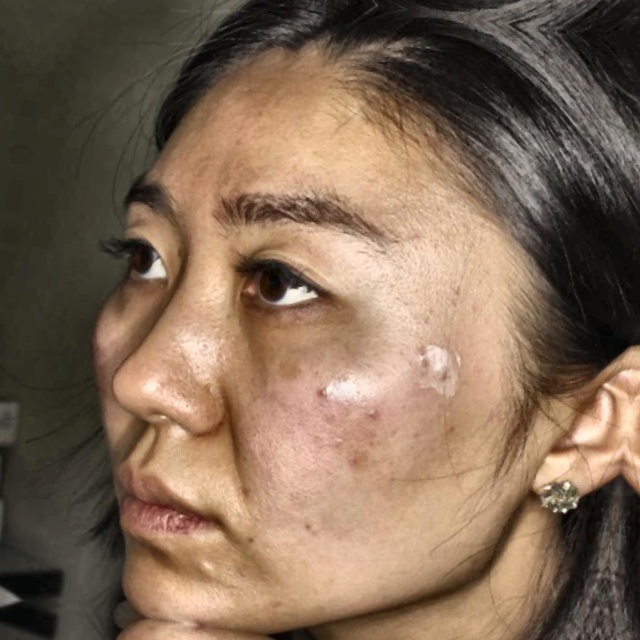comedone: (186, 553, 216, 585), (309, 376, 332, 407), (364, 397, 386, 428)
